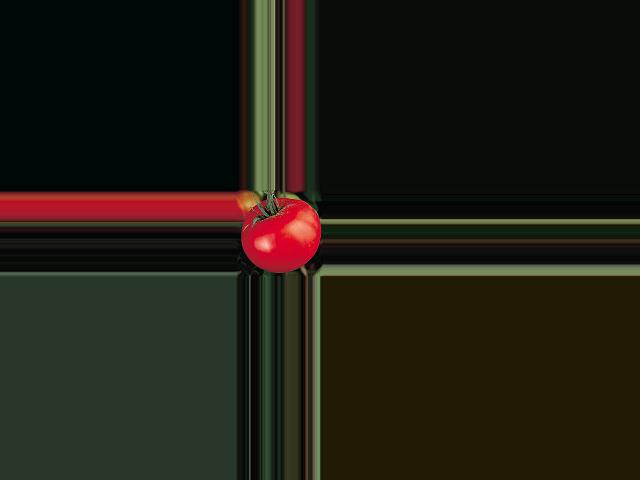tomato: (242, 198, 321, 273)
